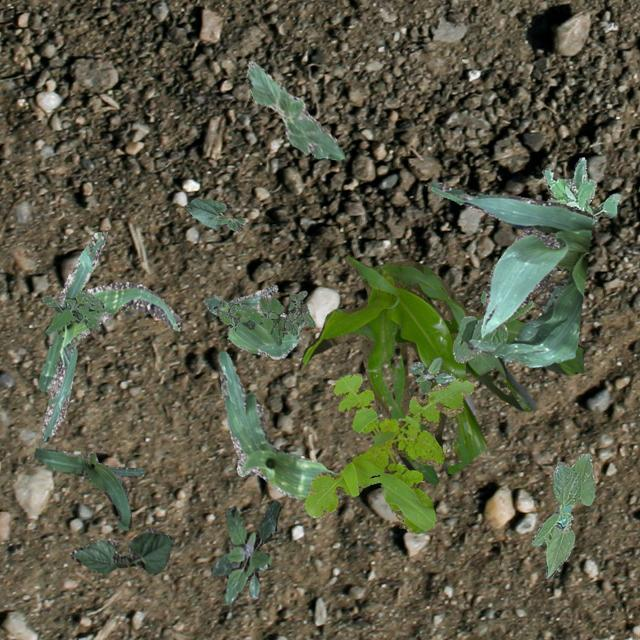crop: (301, 256, 584, 484), (38, 230, 180, 440), (430, 182, 592, 366), (218, 350, 344, 500), (245, 60, 344, 160), (34, 447, 144, 529), (530, 452, 594, 578), (205, 284, 306, 358), (452, 286, 532, 362), (68, 528, 174, 574), (184, 198, 244, 232)
weed: (302, 372, 474, 532), (210, 499, 280, 604), (540, 156, 620, 224), (214, 290, 314, 344), (41, 290, 102, 332), (408, 356, 454, 394)
